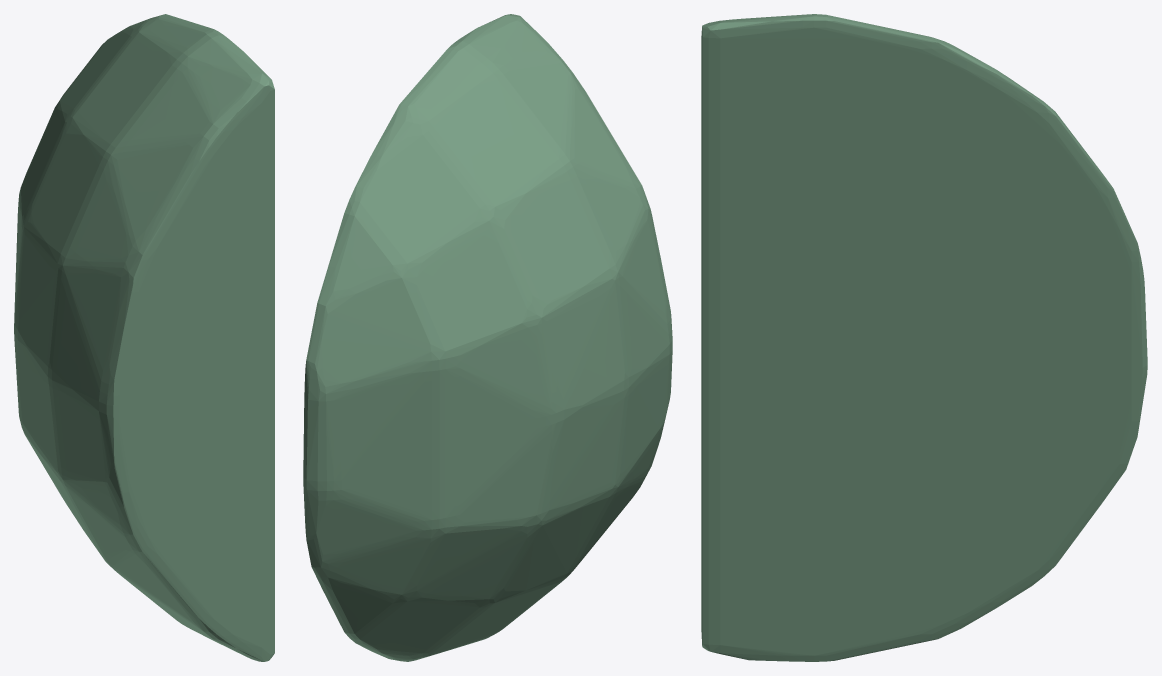
The model's file is right_th_proximal_part_0.obj.
The picture shows the model from 3 angles, left to right: view 1: azimuth 30°, elevation 25°; view 2: azimuth 150°, elevation 25°; view 3: azimuth 270°, elevation 25°; orthographic projection. The views are drawn at different scales.
Size of the model in its own units: 6.8 by 22.49 by 14.13.
